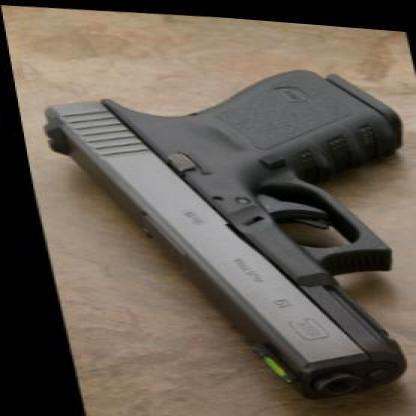pistol: (17, 43, 413, 407)
